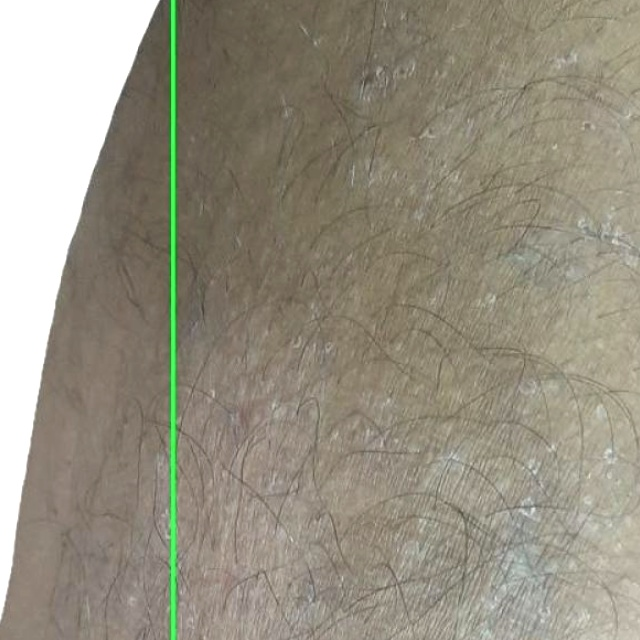Contact Dermatitis: (0, 0, 172, 639)
